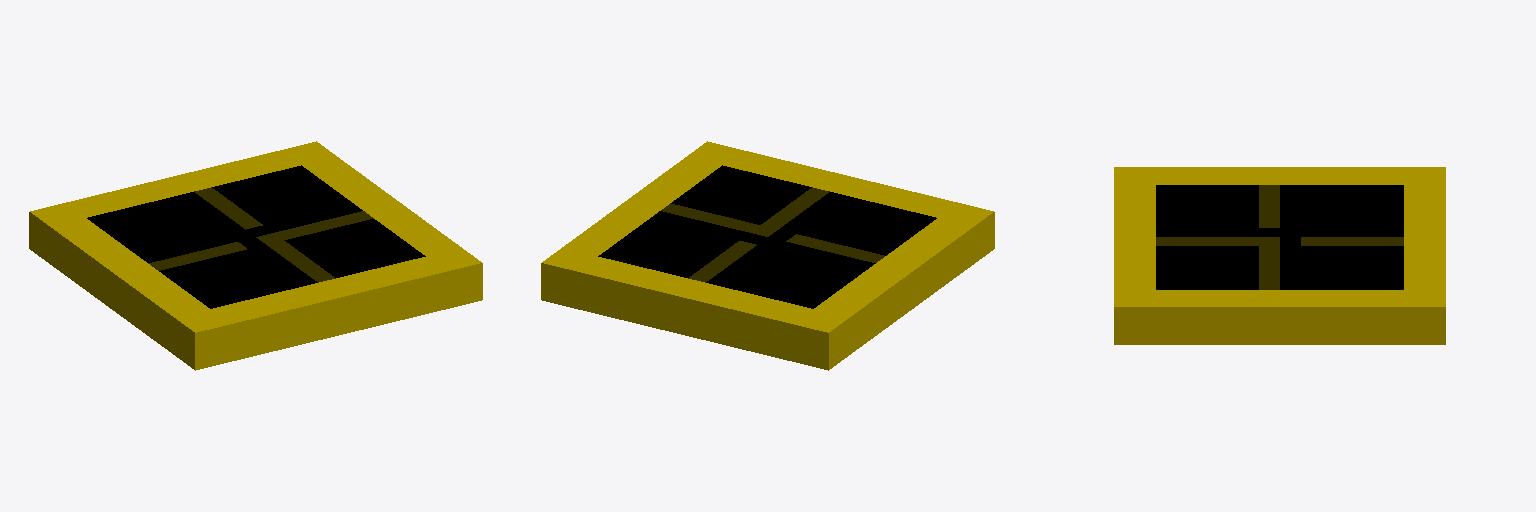
3 renders of one model, left to right at view 1: azimuth 30°, elevation 25°; view 2: azimuth 150°, elevation 25°; view 3: azimuth 270°, elevation 25°, orthographic.
Parts seen in each view (by area): view 1: Cube; view 2: Cube; view 3: Cube.
Part boxes in pixels (x1,y1,x2,y2): Cube: (29, 141, 482, 370); Cube: (541, 141, 994, 370); Cube: (1114, 167, 1445, 344).
Bounding box in the file's own units: 16 × 2 × 16.
1 materials, 1 textured.